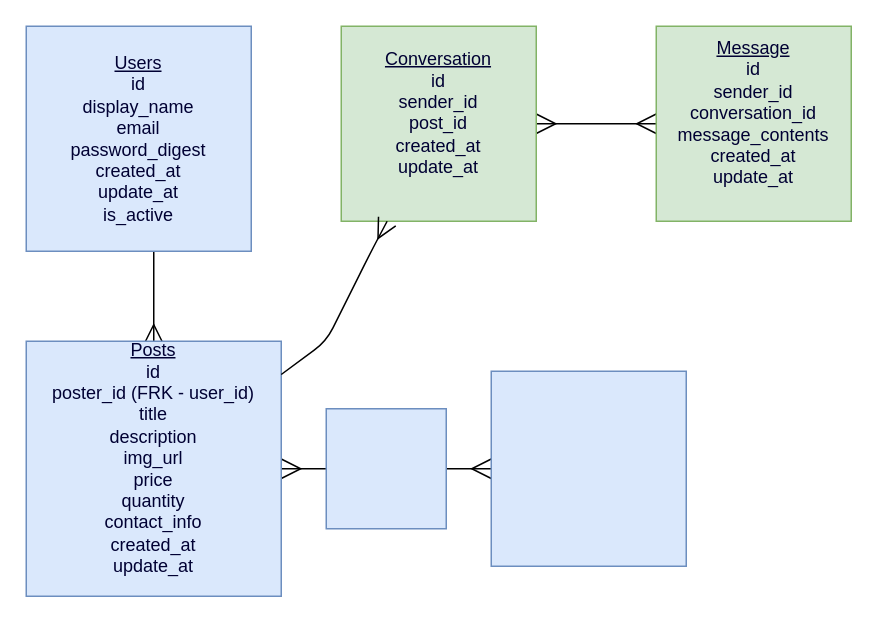
This 878x624 diagram has some shape labels left out. The centre of each missing label's shape, as x and y in pixels:
"PostsTags post_id tag_id" goes at (x=385, y=468).
"Tags id name created_at update_at" goes at (x=588, y=468).
